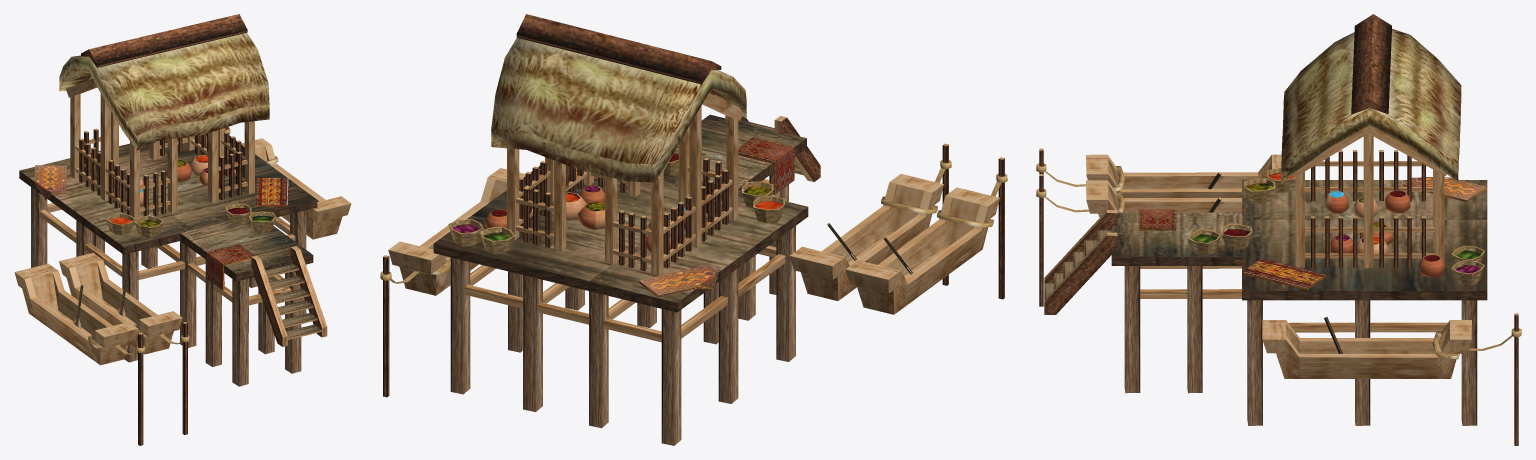
Rendered from dock_1.dae.
3 renders of one model, left to right at view 1: azimuth 30°, elevation 25°; view 2: azimuth 150°, elevation 25°; view 3: azimuth 270°, elevation 25°, orthographic. The views are drawn at different scales.
Visible parts, largest first — view 1: doca_1; view 2: doca_1; view 3: doca_1.
Boxes of the visible parts, bbox=[...] form: doca_1: bbox=[14, 14, 351, 445]; doca_1: bbox=[380, 14, 1007, 445]; doca_1: bbox=[1036, 14, 1521, 445].
Bounding box in the file's own units: 18.6 × 20.14 × 14.56.
